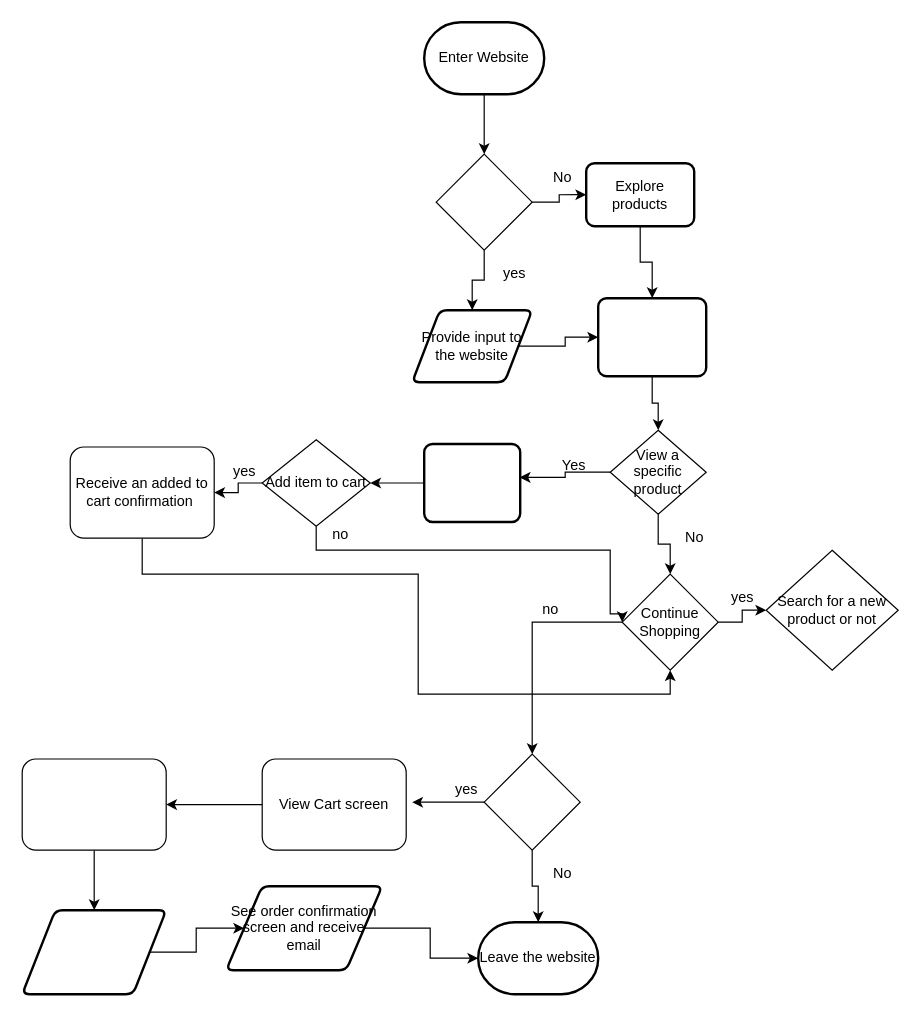
This 919x1015 diagram has some shape labels left out. The shapes that lost their labels are listed below. From the top down, each one's box as (x1, y1, x2, y2) in pixels, then its label:
(435, 153, 532, 250): Search for product
(596, 296, 707, 377): Look over products
(422, 442, 521, 523): Product's webpage opens
(21, 758, 166, 850): View Payment screen
(483, 753, 580, 850): Checkout
(20, 908, 167, 995): Enter payment information
